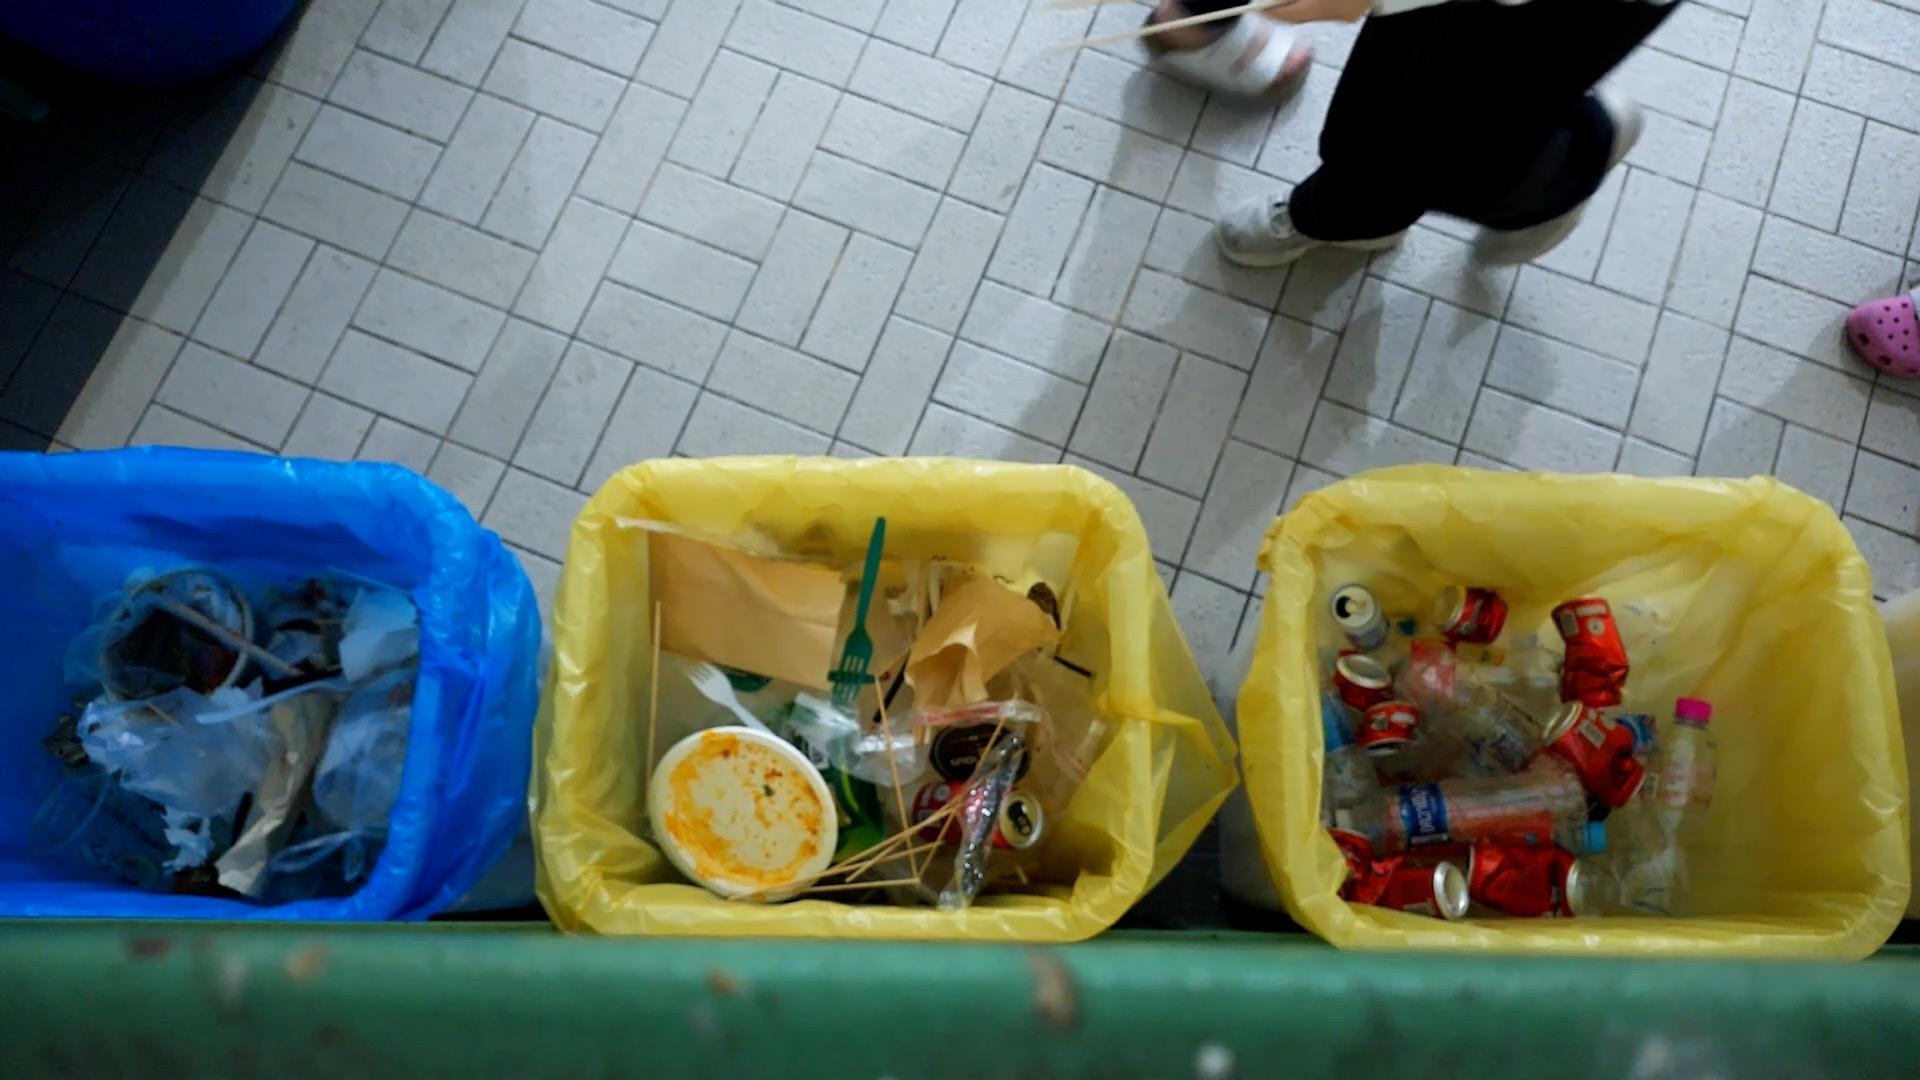can: (1534, 699, 1646, 800), (913, 778, 1048, 853), (1462, 841, 1588, 920), (1547, 595, 1629, 711), (1329, 824, 1406, 907), (1379, 861, 1473, 924), (1432, 579, 1509, 647), (1333, 654, 1400, 717), (1329, 584, 1391, 653), (1357, 699, 1425, 758)
dirty food container: (644, 728, 839, 901)
filled plastic bag: (268, 659, 422, 881)
paper bag: (647, 527, 848, 690), (214, 690, 331, 899), (902, 574, 1065, 711)
plastic bottle: (1602, 695, 1720, 918), (1336, 770, 1588, 847)
plastic cup: (21, 767, 187, 895)
plastic cutlery: (828, 516, 889, 699), (193, 675, 348, 724), (684, 658, 762, 727)
sticks: (845, 745, 1029, 882), (919, 688, 1019, 882), (728, 837, 943, 903), (141, 584, 294, 673), (1084, 0, 1309, 53), (870, 663, 923, 882), (642, 596, 665, 815), (736, 873, 918, 898)
